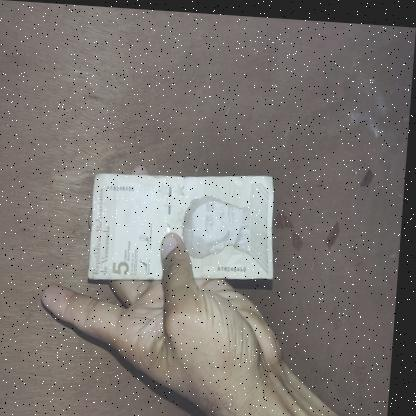five-front-vef: (91, 162, 283, 288)
